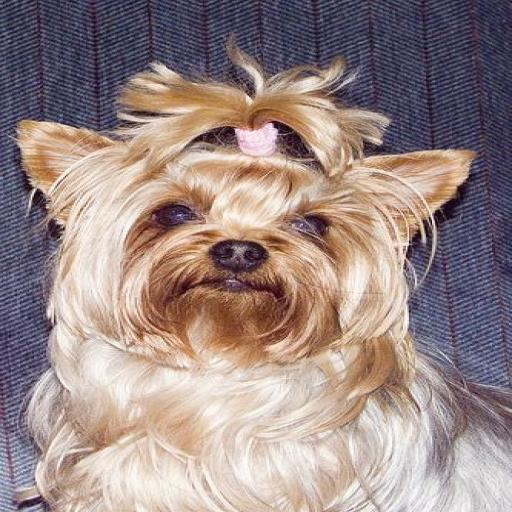dog_face: (14, 114, 470, 364)
